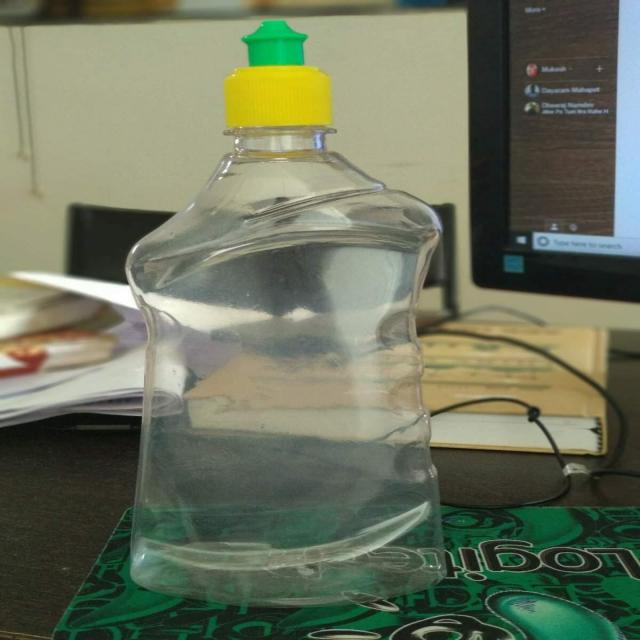plastic_bottle: (140, 11, 457, 600)
